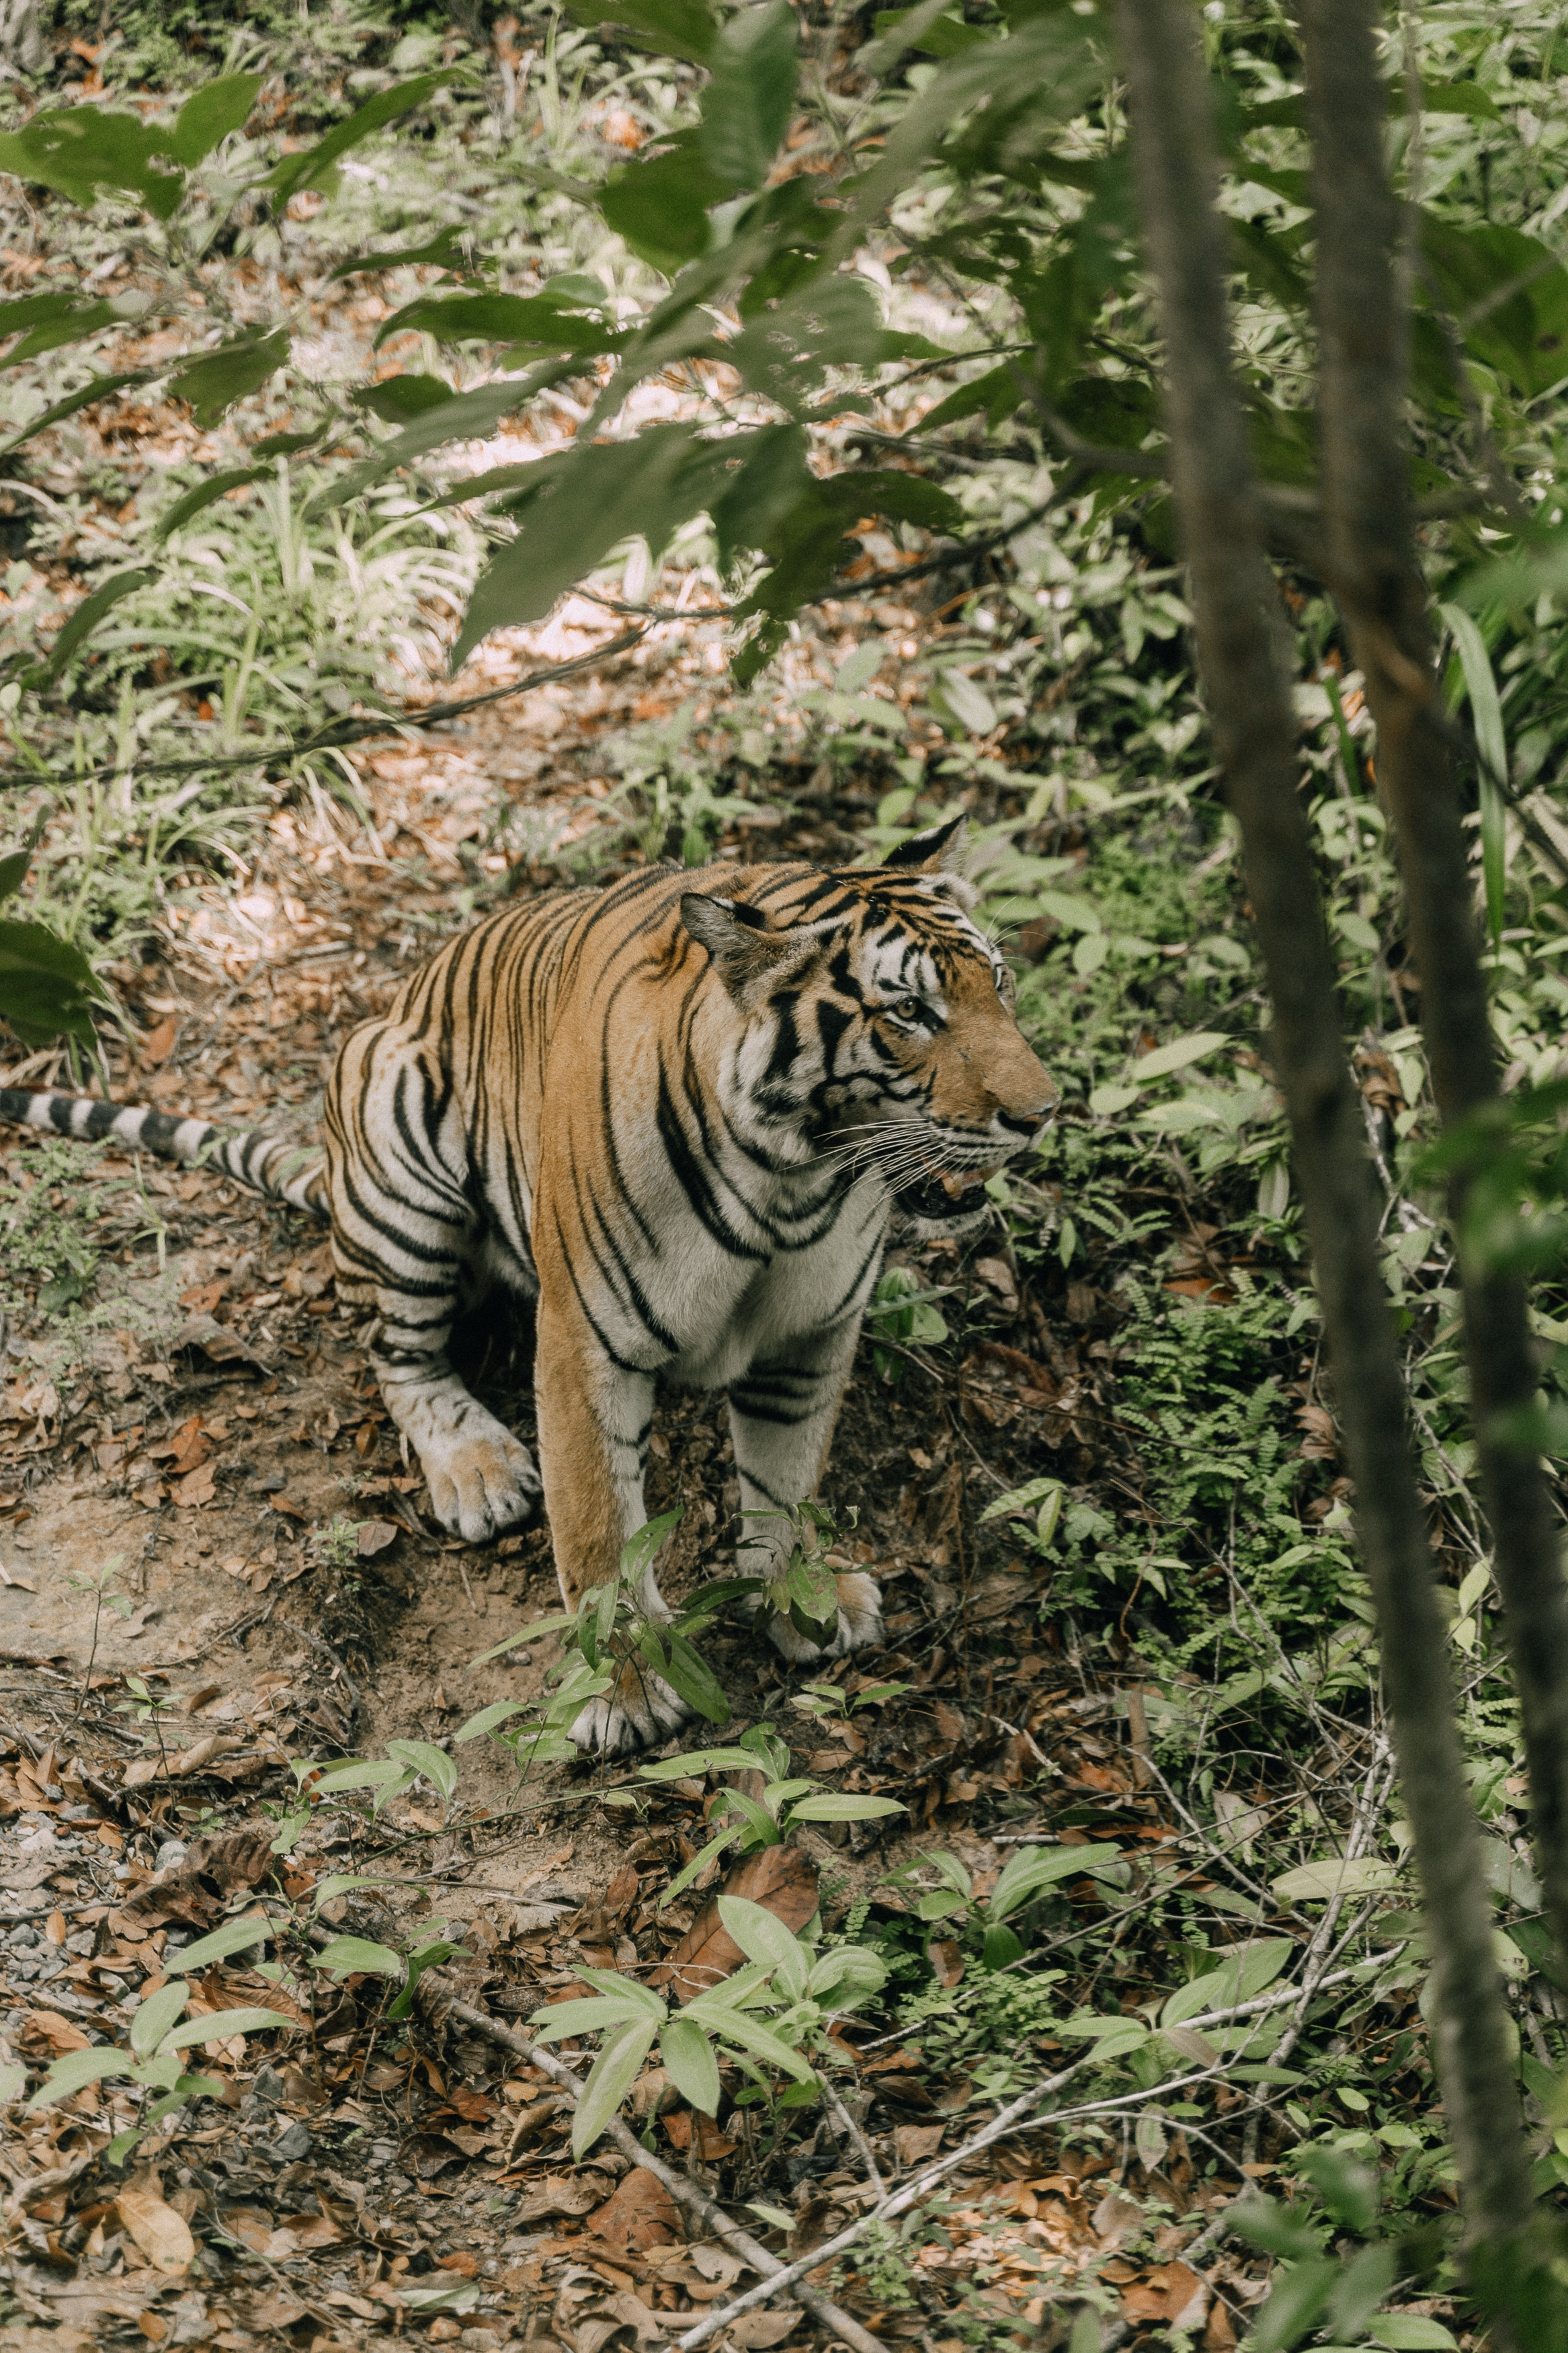tiger: (266, 783, 1134, 1702)
